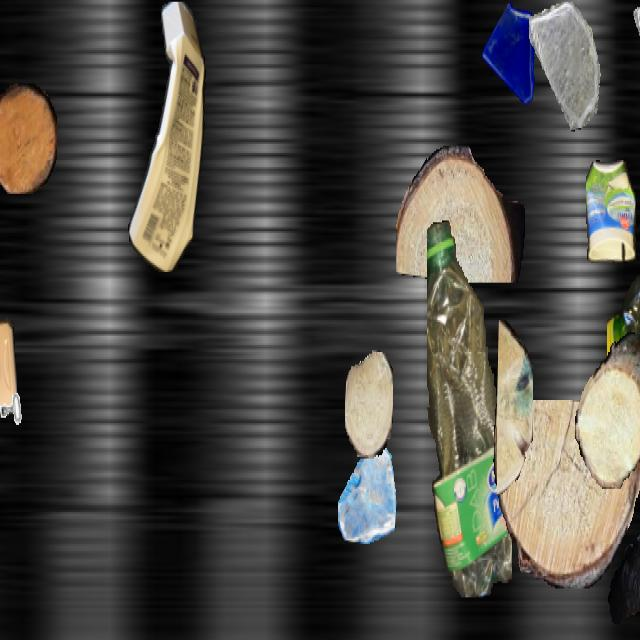glass: (529, 2, 601, 130), (481, 1, 545, 116), (338, 439, 396, 542), (633, 2, 640, 105)
metal: (0, 351, 35, 428)
plastic: (427, 218, 511, 596), (122, 2, 210, 272), (607, 224, 640, 388), (586, 160, 636, 263), (0, 316, 17, 462)
wood: (493, 400, 640, 588), (396, 146, 524, 281), (575, 332, 640, 489), (0, 84, 57, 194), (497, 320, 533, 494), (345, 350, 393, 457), (607, 496, 640, 638)
